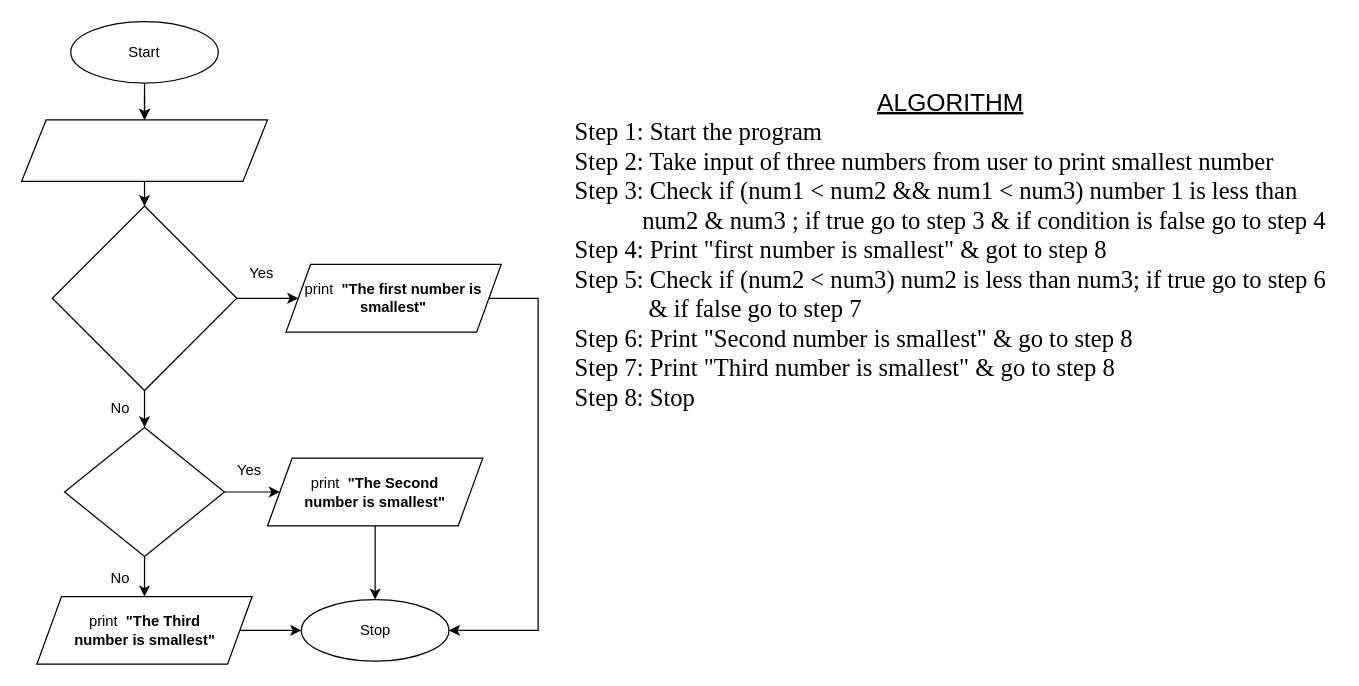
This 1359x686 diagram has some shape labels left out. Each missing label, with the centre of its shape:
"Check if (num1 < num2 && num1 < num3)" goes at point 144,298.
"else if ( num2 < num3 )" goes at point 143,491.
"Enter the first , second & third number (num1, num2 & num3)" goes at point 144,150.
